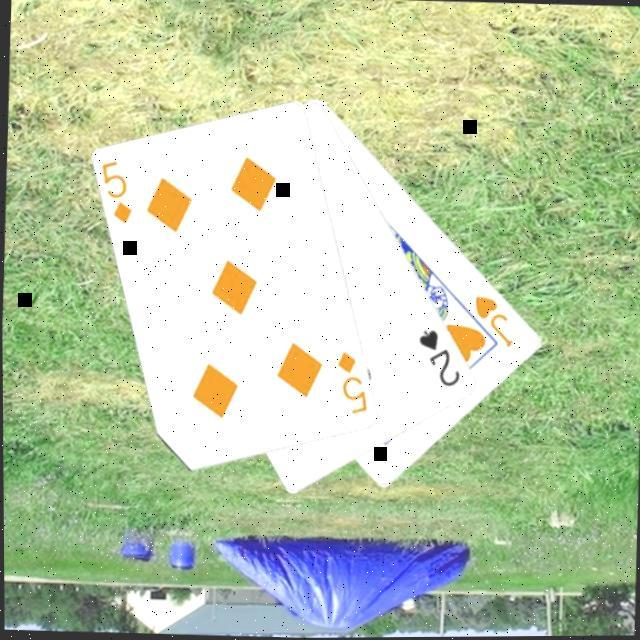2S: (414, 327, 466, 393)
5D: (334, 349, 374, 420), (97, 159, 137, 230)
JH: (470, 294, 520, 353)
